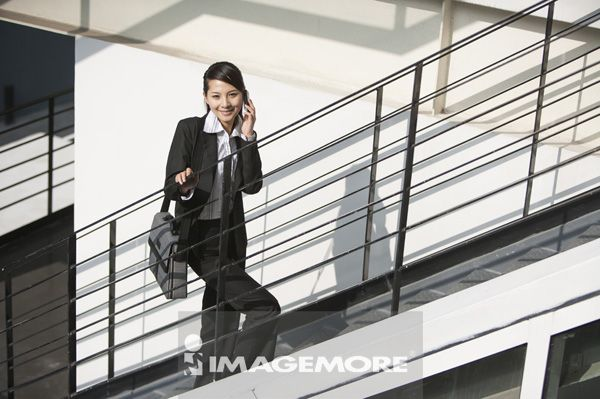talk: (211, 87, 257, 133)
